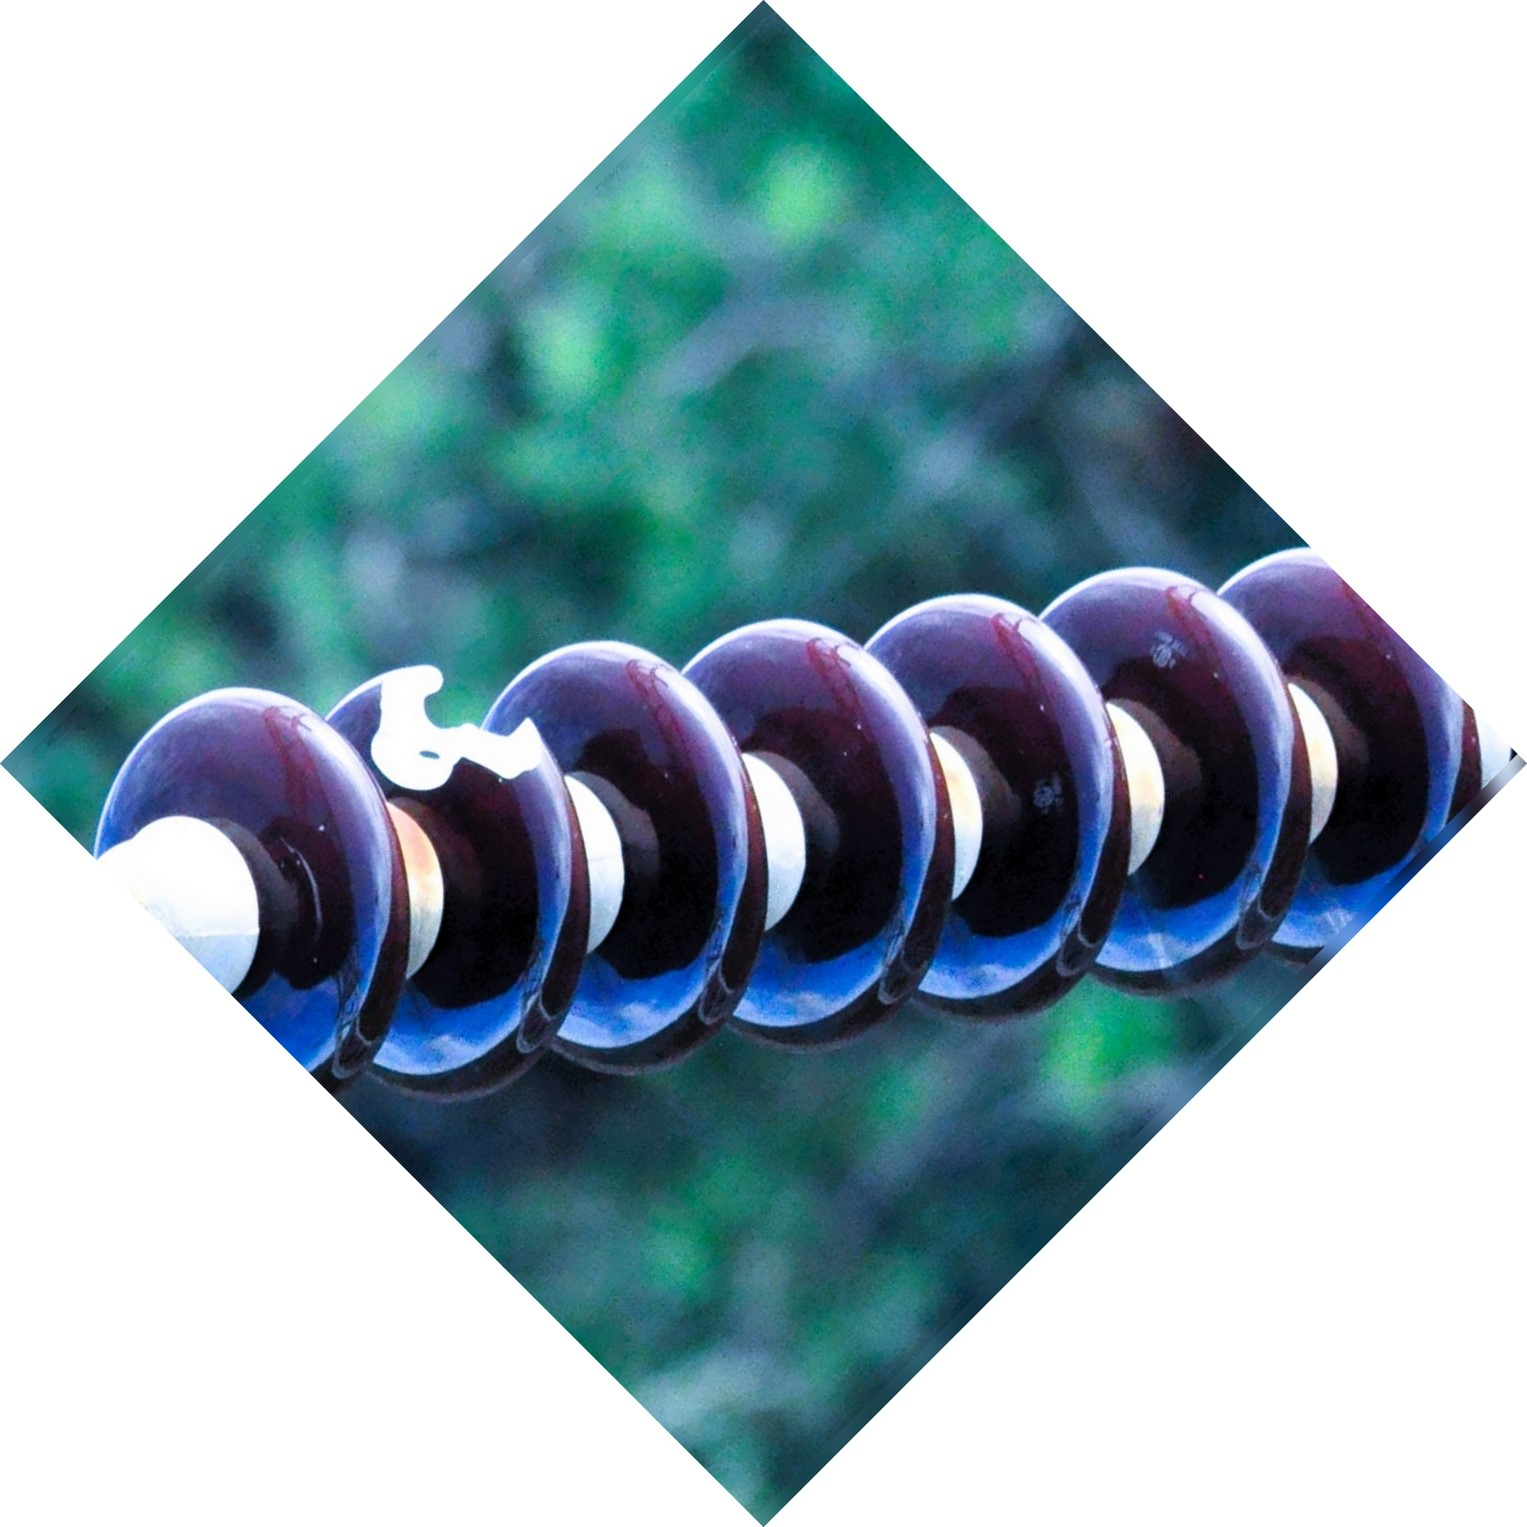insulator breakage: (315, 639, 596, 1112)
